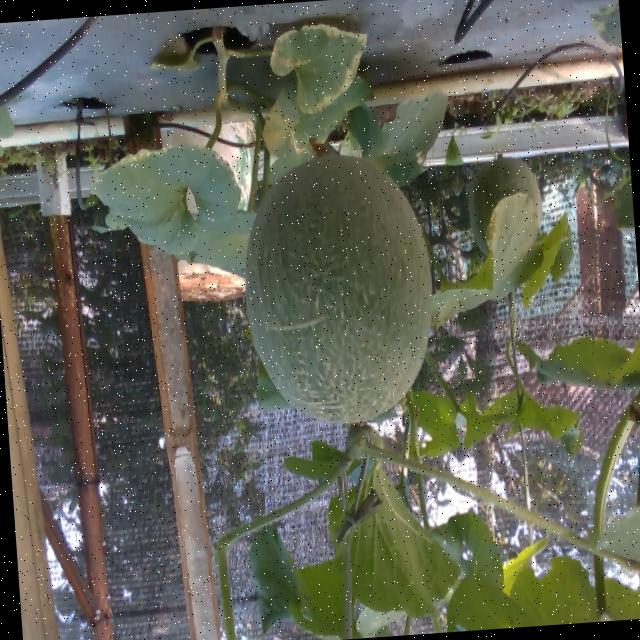melon: (244, 155, 429, 420)
